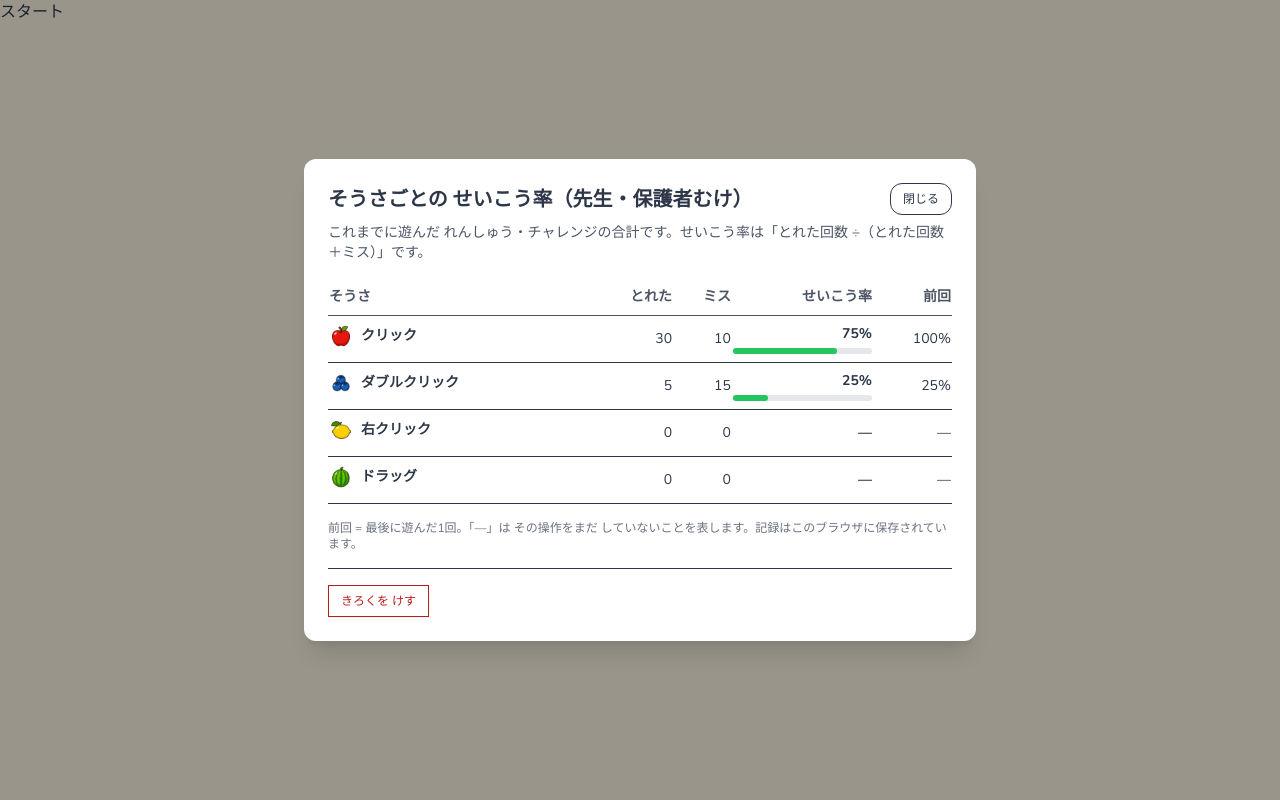
Scenario: OperationReportModal: きろくを けす › RST-N-02: 確認で「けす」を押すと onReset、確認は閉じて「とじる」へ
// Given: 確認を出した When: けす
Step 1. Click the button "きろくを けす" → (379, 601), box [328,585,429,617]
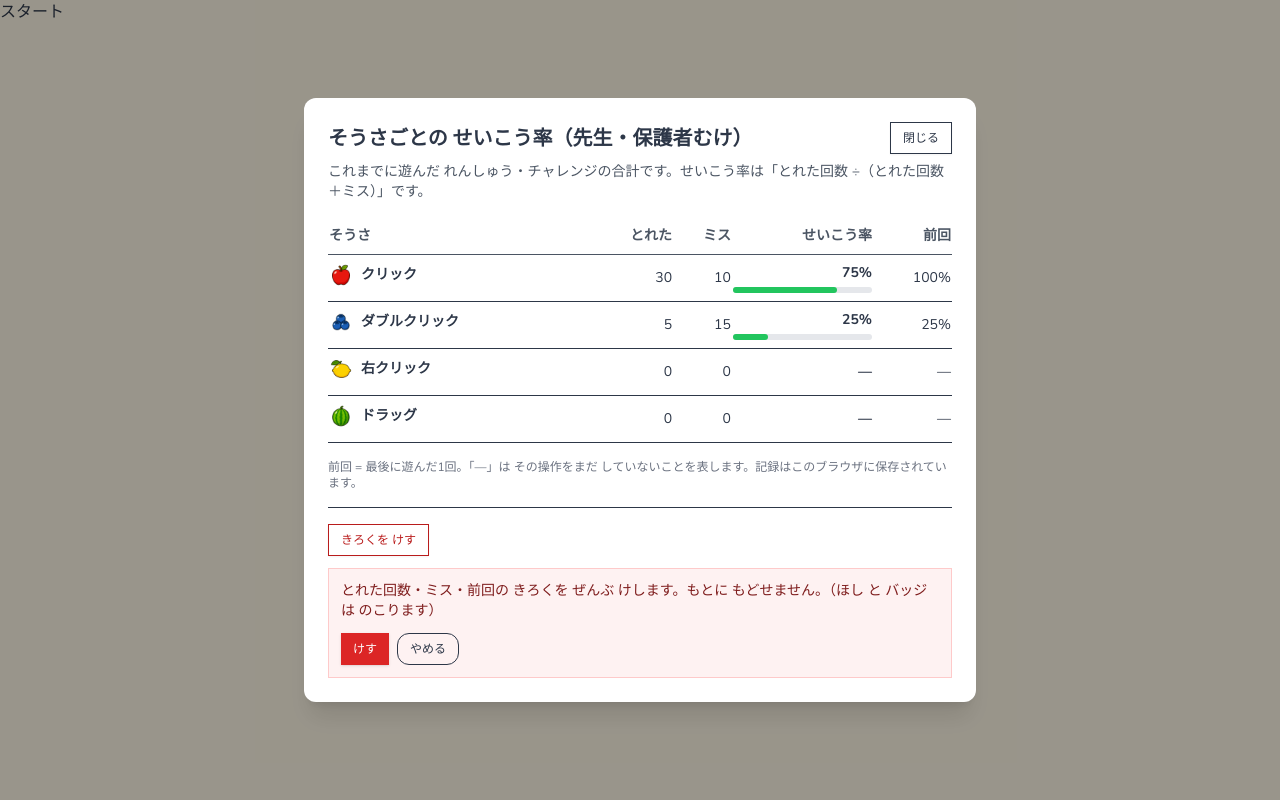
Step 2. Click the button "けす" → (365, 649), box [341,633,389,665]
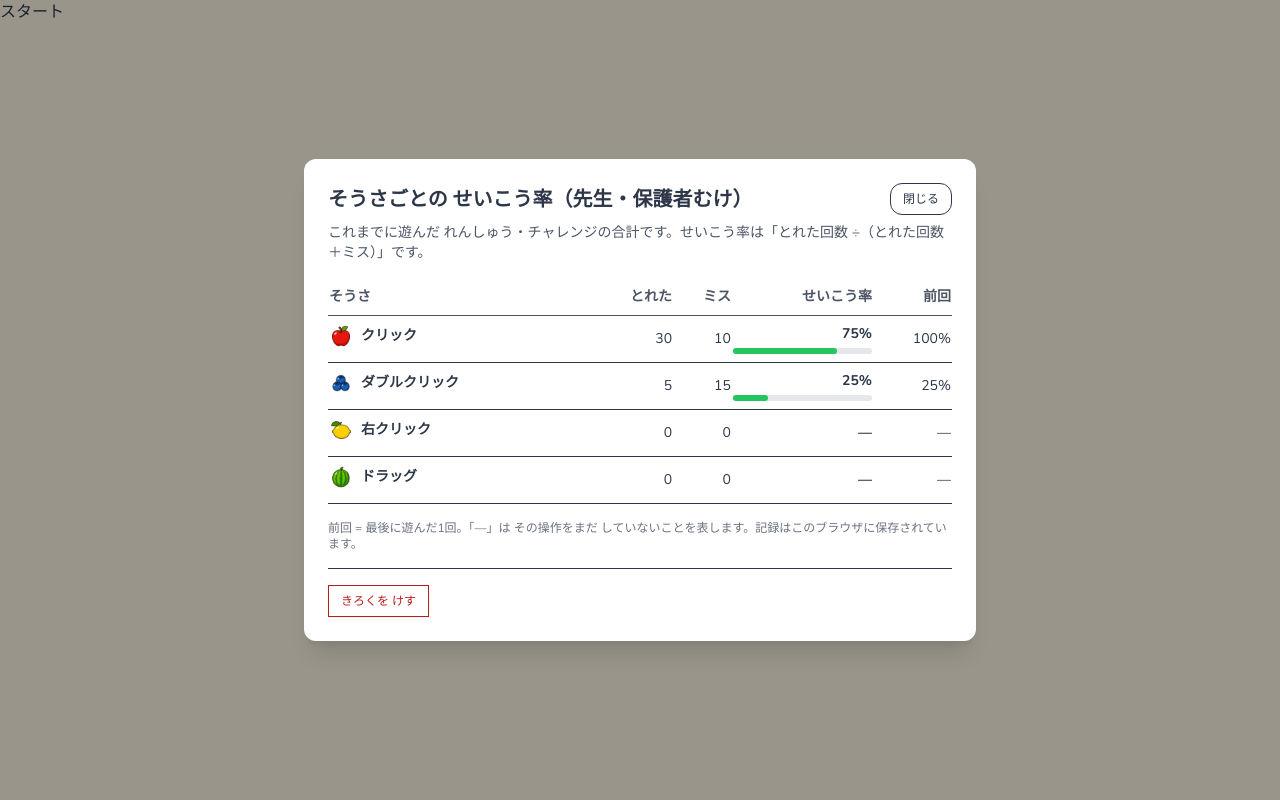
Result: the text "とれた回数・ミス・前回の きろくを ぜんぶ けします。もとに もどせません。（ほし と バッジ は のこります）" is gone
